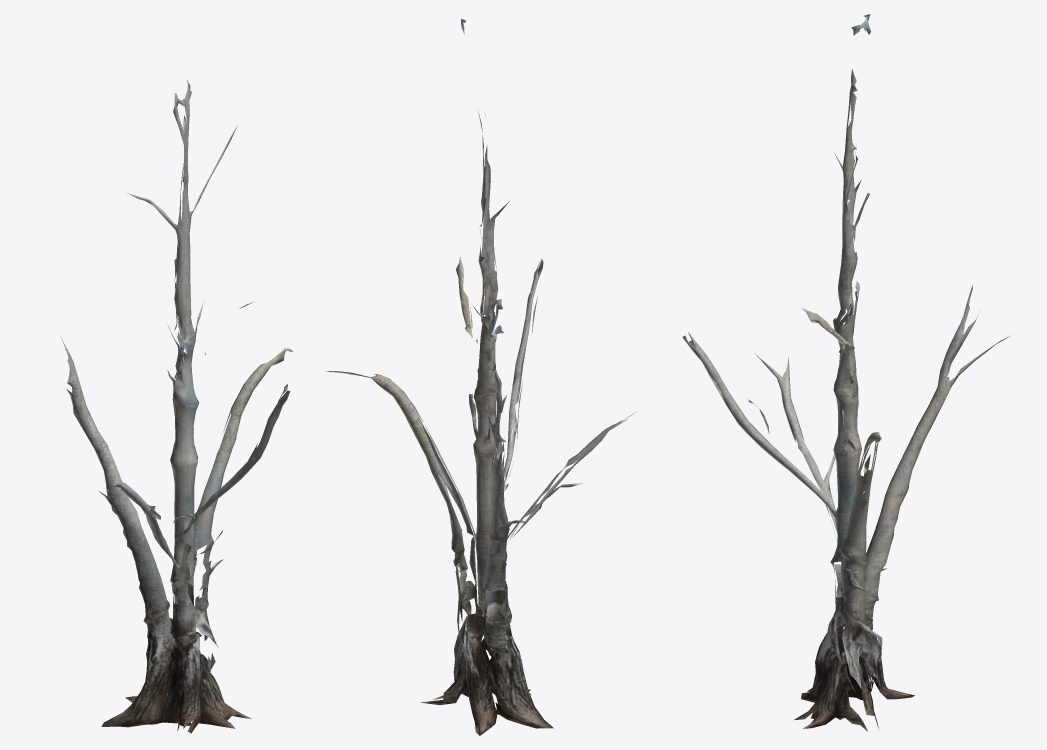
The model's file is betula_gelida_adulta.glb.
The picture shows the model from 3 angles, left to right: view 1: azimuth 30°, elevation 25°; view 2: azimuth 150°, elevation 25°; view 3: azimuth 270°, elevation 25°; orthographic projection.
Visible parts, largest first — view 1: geometry_0.1761; view 2: geometry_0.1761; view 3: geometry_0.1761.
Boxes of the visible parts, bbox=[...] form: geometry_0.1761: bbox=[60, 79, 292, 733]; geometry_0.1761: bbox=[325, 19, 635, 735]; geometry_0.1761: bbox=[682, 14, 1010, 731].
Bounding box in the file's own units: 0.3618 × 0.9312 × 0.4225.
1 material, 1 textured.
